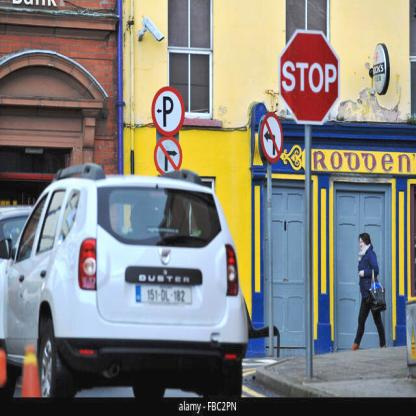No left turn: (261, 112, 284, 161)
